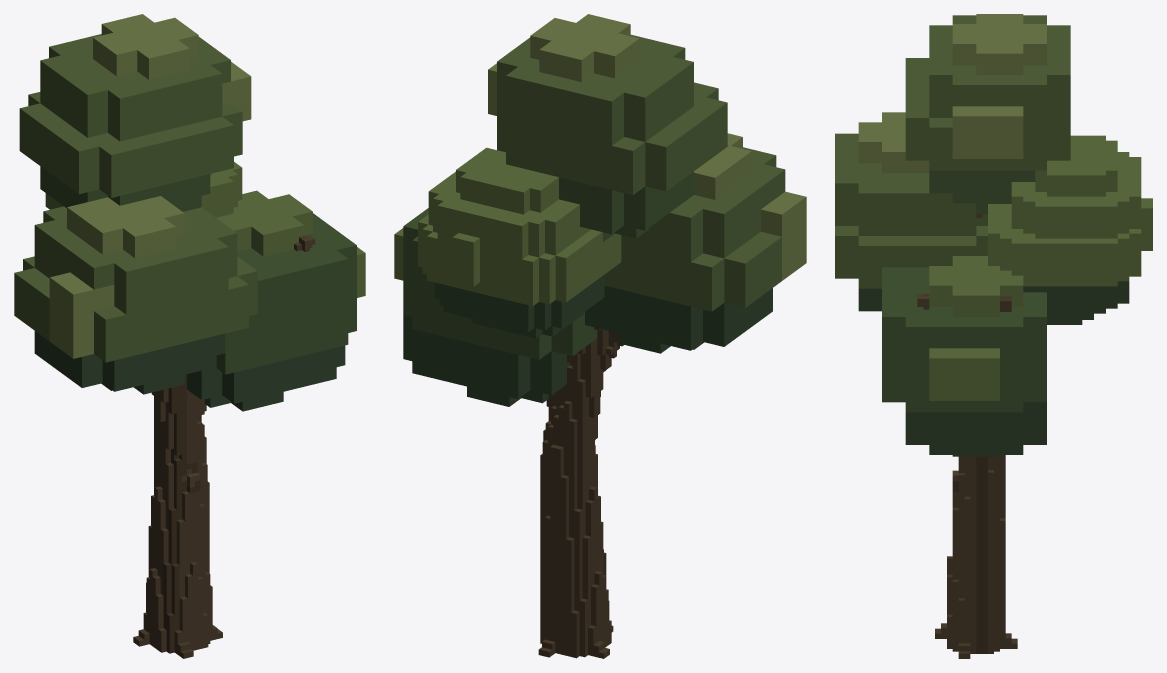
Rendered from oak_sapling.glb.
The picture shows the model from 3 angles, left to right: view 1: azimuth 30°, elevation 25°; view 2: azimuth 150°, elevation 25°; view 3: azimuth 270°, elevation 25°; orthographic projection. The views are drawn at different scales.
Parts seen in each view (by area): view 1: VoxelVisual; view 2: VoxelVisual; view 3: VoxelVisual.
Boxes of the visible parts, bbox=[...] form: VoxelVisual: bbox=[14, 14, 365, 658]; VoxelVisual: bbox=[394, 14, 806, 658]; VoxelVisual: bbox=[835, 14, 1152, 658].
Size of what is drawn, in the model's own units: 4 by 7 by 3.38.
